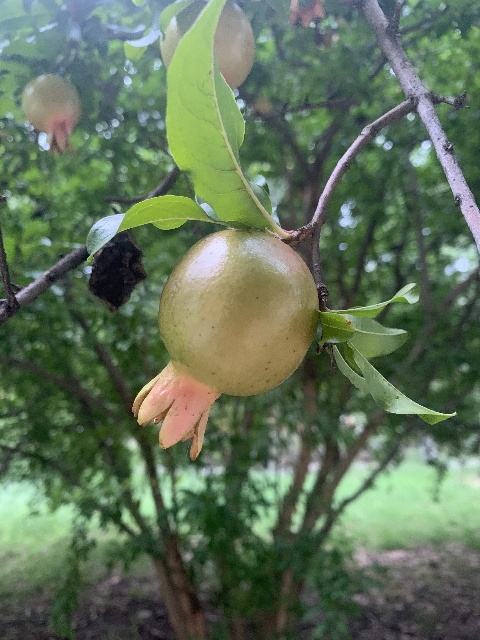mid-growth: (129, 227, 319, 463), (21, 73, 82, 156)
